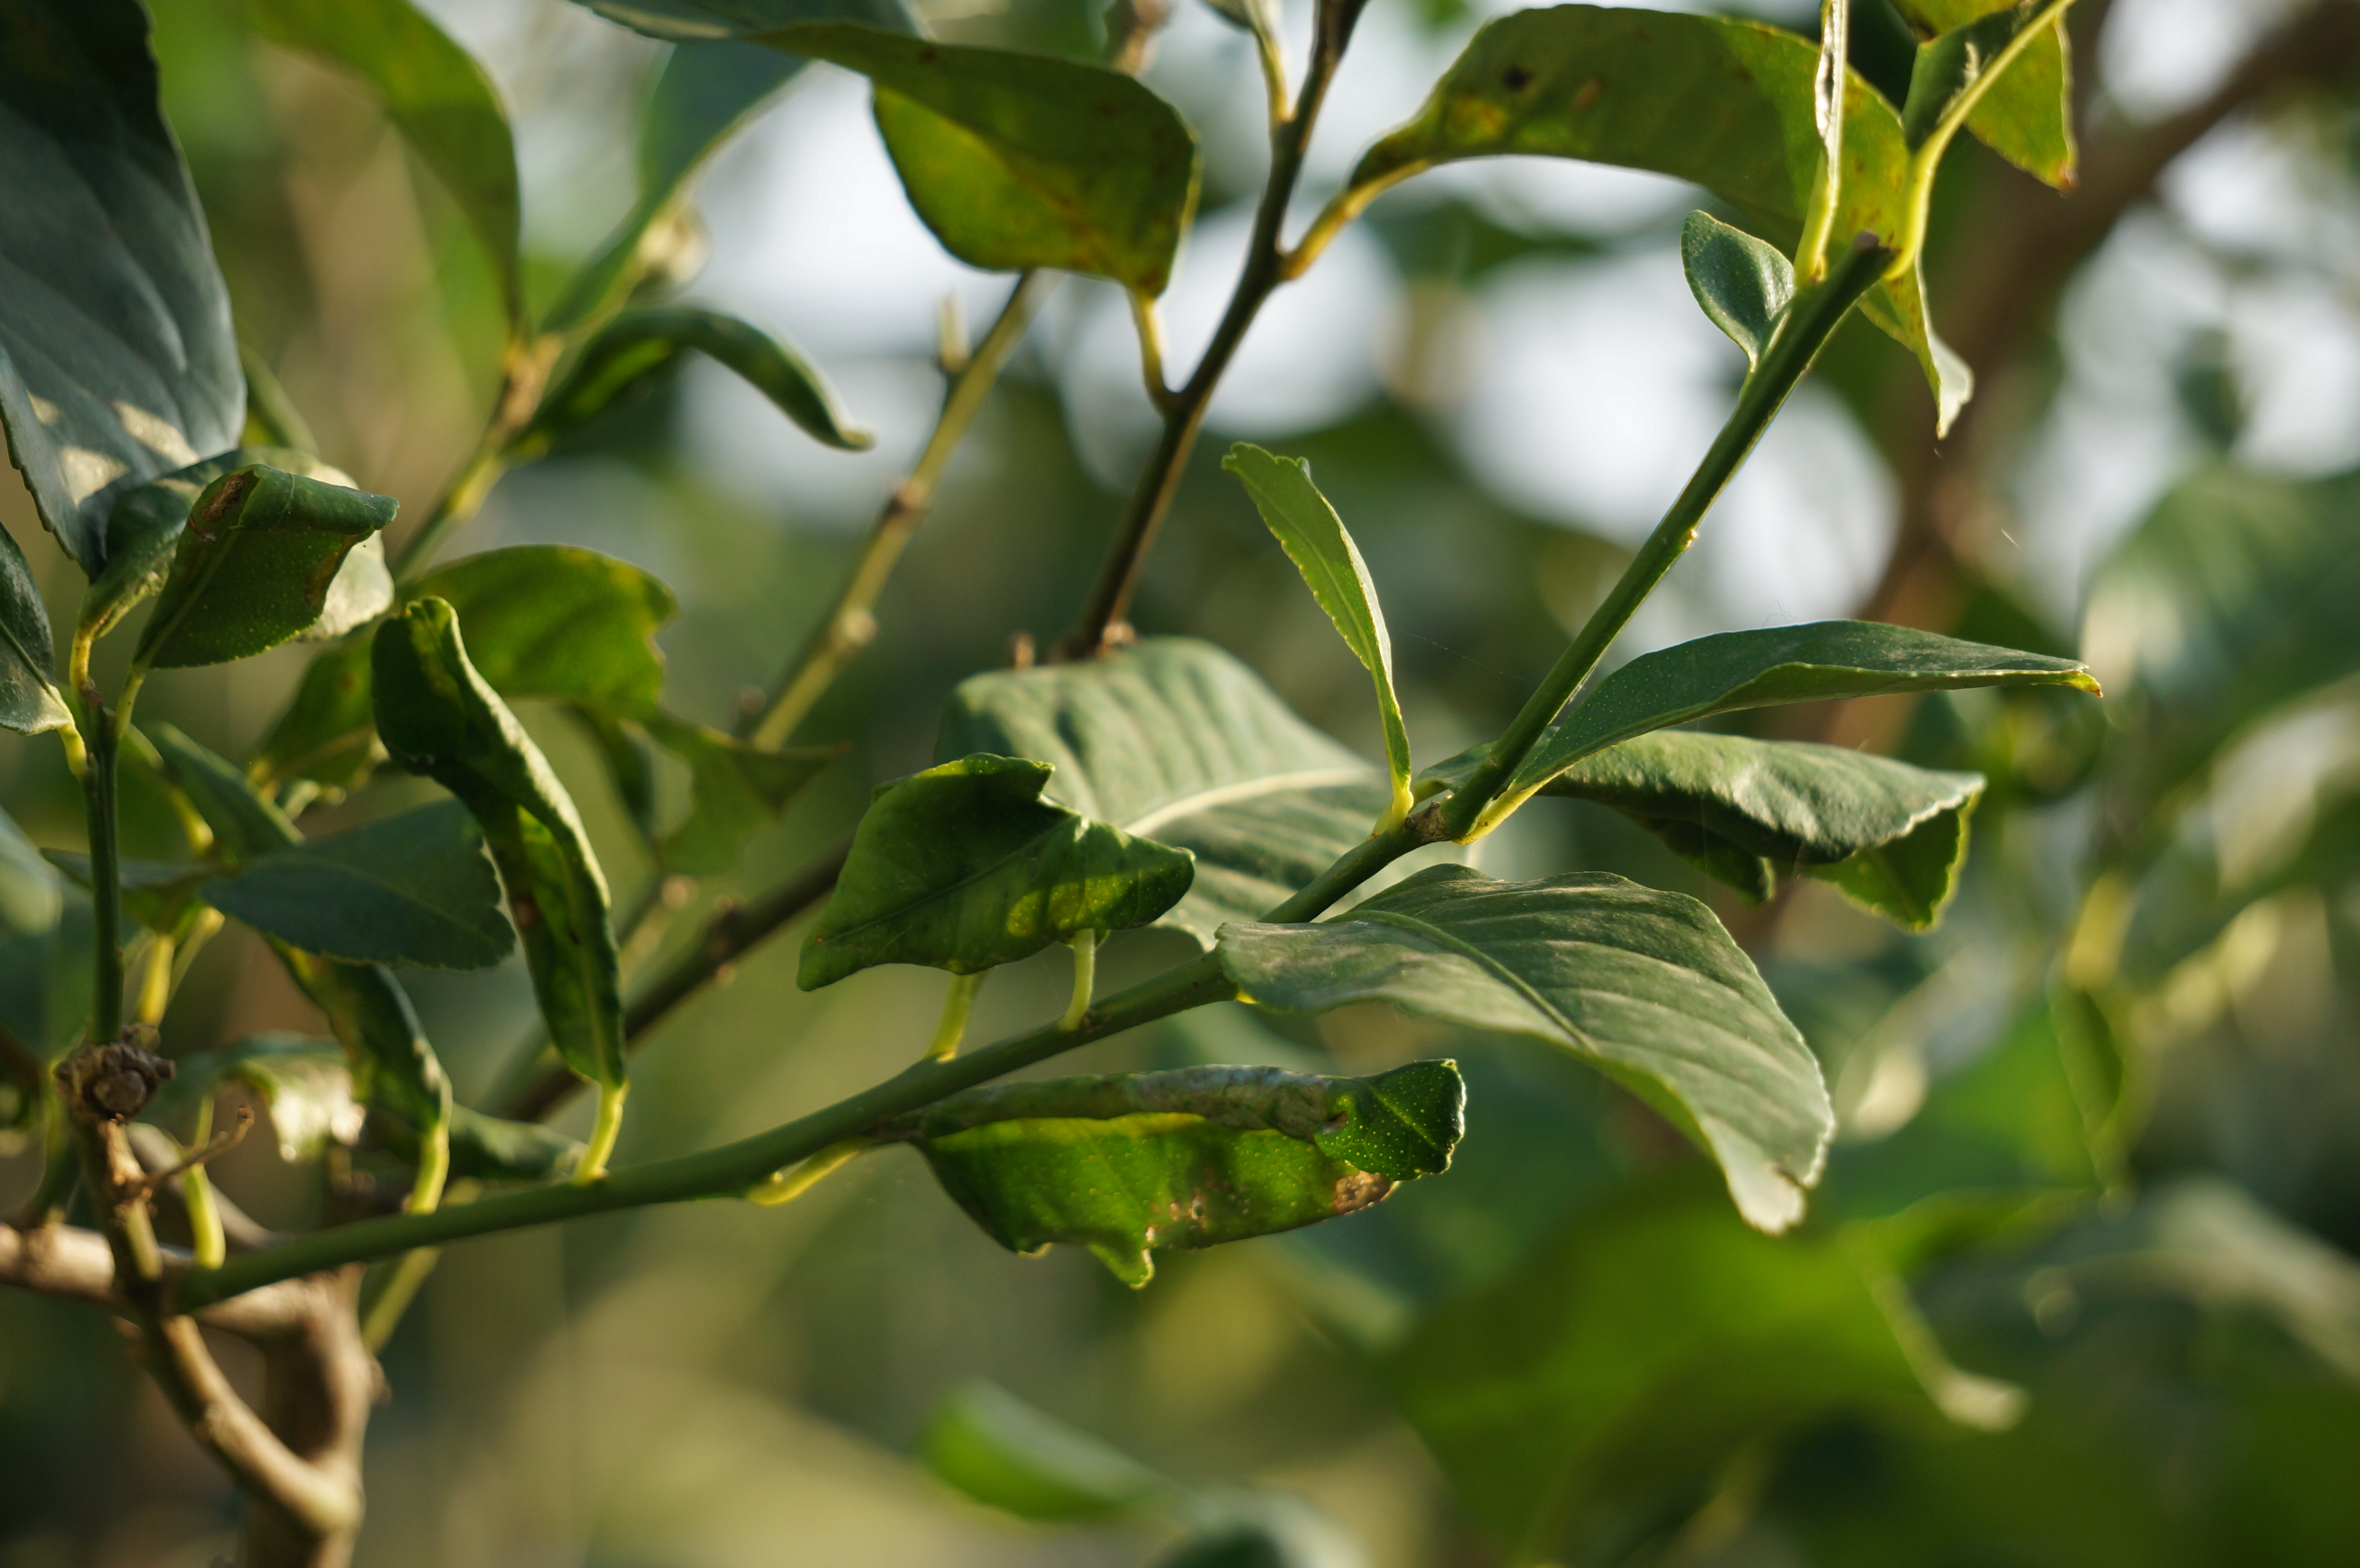curly: (352, 591, 656, 1106), (871, 1060, 1489, 1302), (131, 460, 404, 675)
